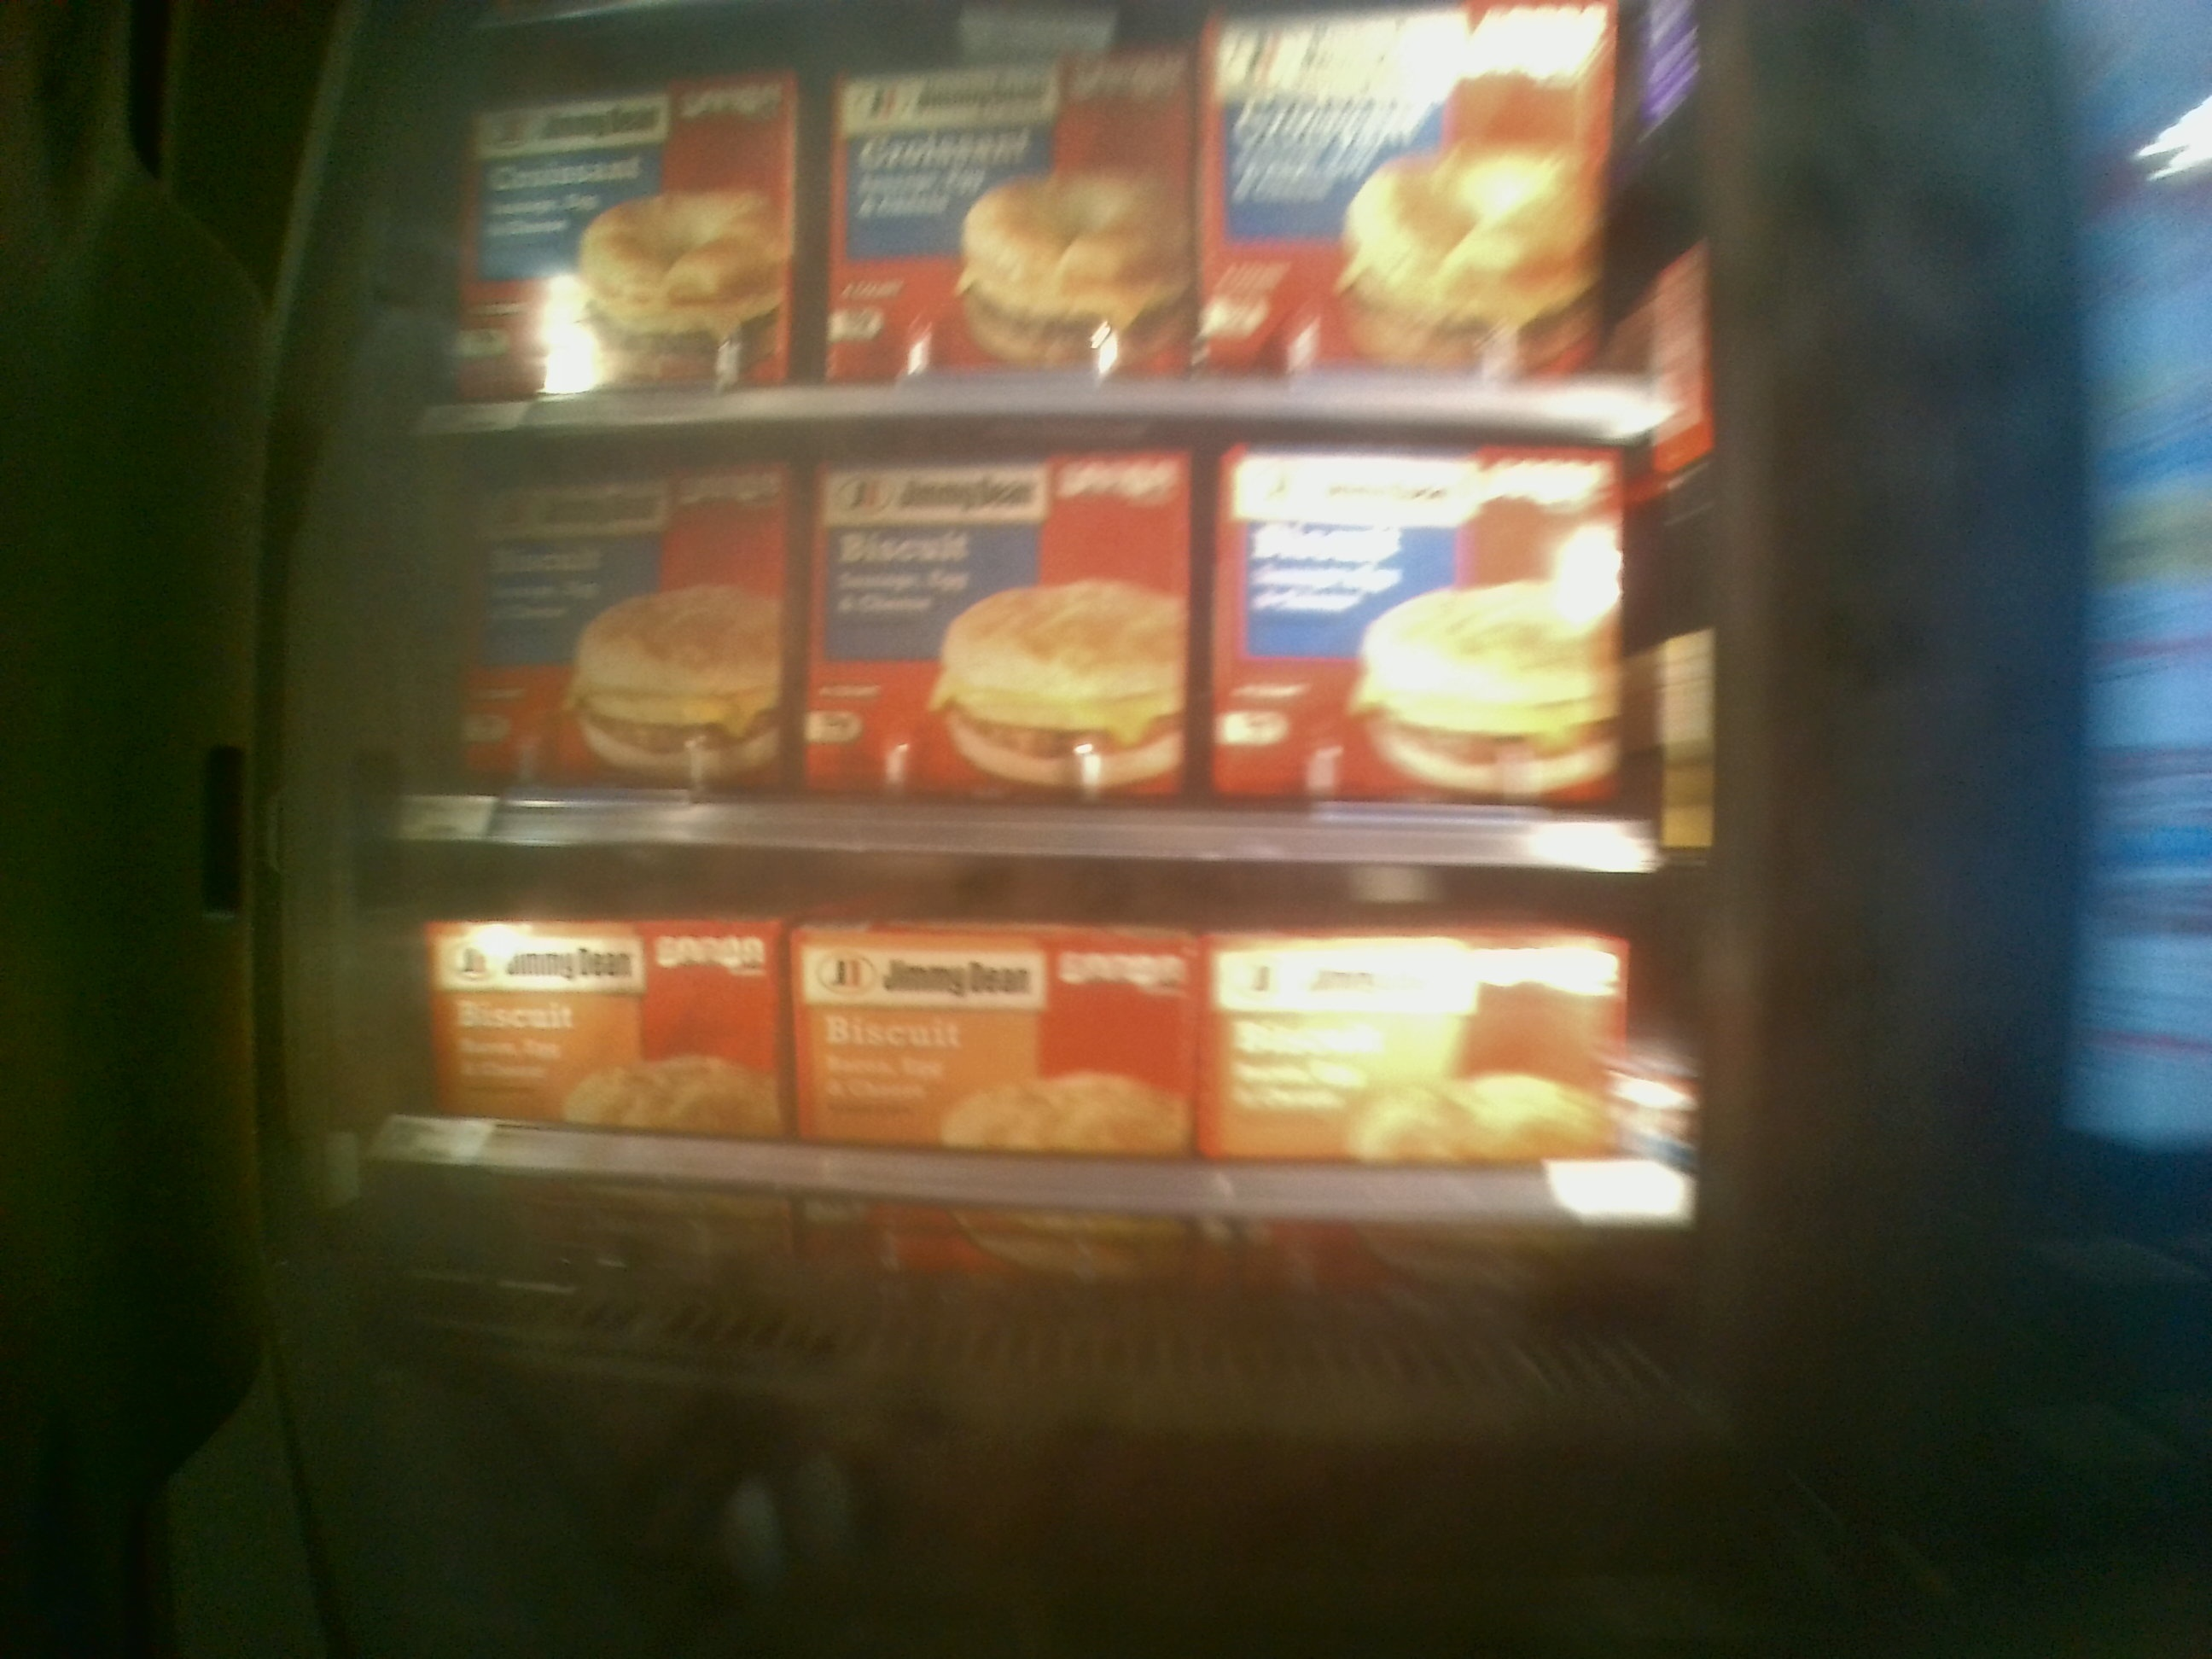shelf: (388, 842, 1707, 1321), (404, 427, 1703, 871)
